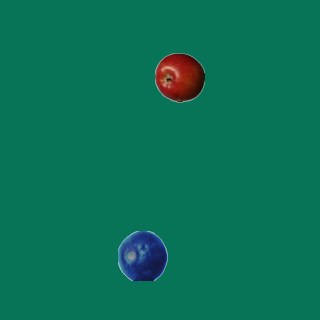Apple Braeburn: (154, 52, 204, 102)
Huckleberry: (117, 230, 167, 280)
